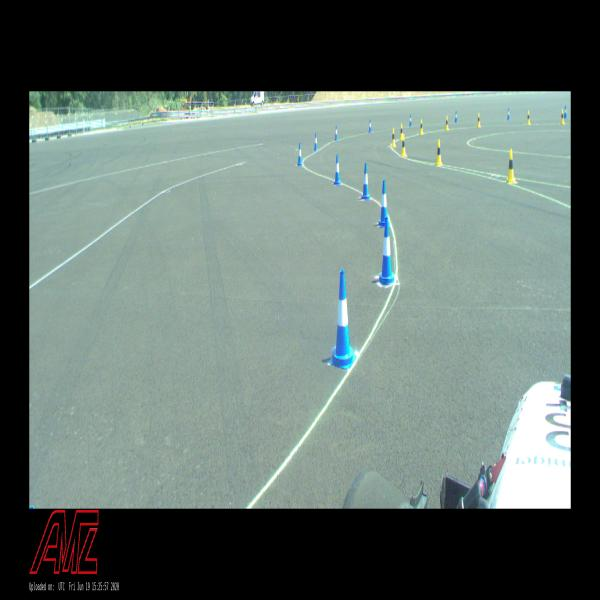blue_cone: (329, 270, 356, 370), (378, 216, 394, 284), (379, 180, 390, 226), (362, 163, 370, 199), (334, 154, 341, 184), (298, 142, 302, 166), (314, 132, 318, 151), (335, 126, 338, 140), (409, 114, 412, 127), (369, 120, 372, 132), (564, 106, 567, 118), (507, 108, 510, 120), (455, 110, 457, 123)
yellow_cone: (507, 149, 516, 183), (436, 139, 442, 166), (400, 134, 406, 156), (391, 128, 396, 147), (526, 110, 531, 125), (560, 109, 565, 124), (420, 119, 424, 134), (445, 116, 449, 131), (477, 113, 481, 127), (400, 124, 403, 139)
